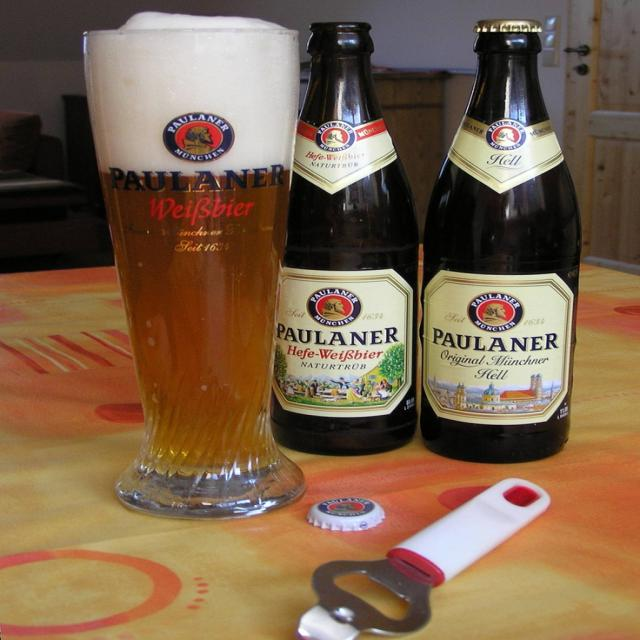paulaner: (163, 113, 236, 163), (307, 288, 361, 329), (469, 293, 524, 333), (485, 121, 528, 152), (315, 122, 357, 152)
